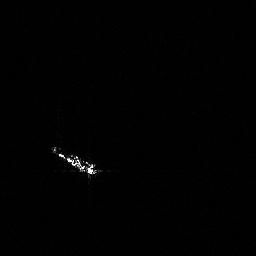ship: (49, 142, 105, 179)
